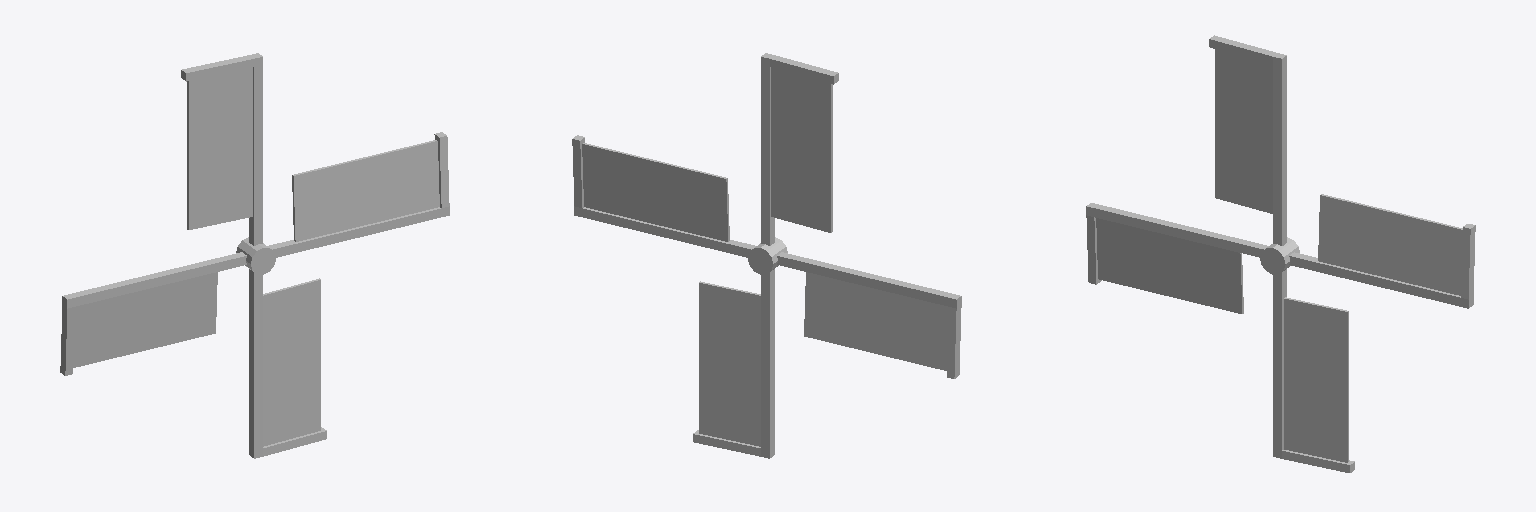
File: Windmillblades.obj
The picture shows the model from 3 angles: view 1: azimuth 30°, elevation 25°; view 2: azimuth 150°, elevation 25°; view 3: azimuth 330°, elevation 25°; orthographic projection.
Visible parts, largest first — view 1: Cylinder; view 2: Cylinder; view 3: Cylinder.
Boxes of the visible parts, x1=… form: Cylinder: x1=60, y1=53, x2=449, y2=458; Cylinder: x1=572, y1=53, x2=961, y2=458; Cylinder: x1=1086, y1=35, x2=1475, y2=472.
Bounding box in the file's own units: 3.2 × 3.21 × 0.2148.